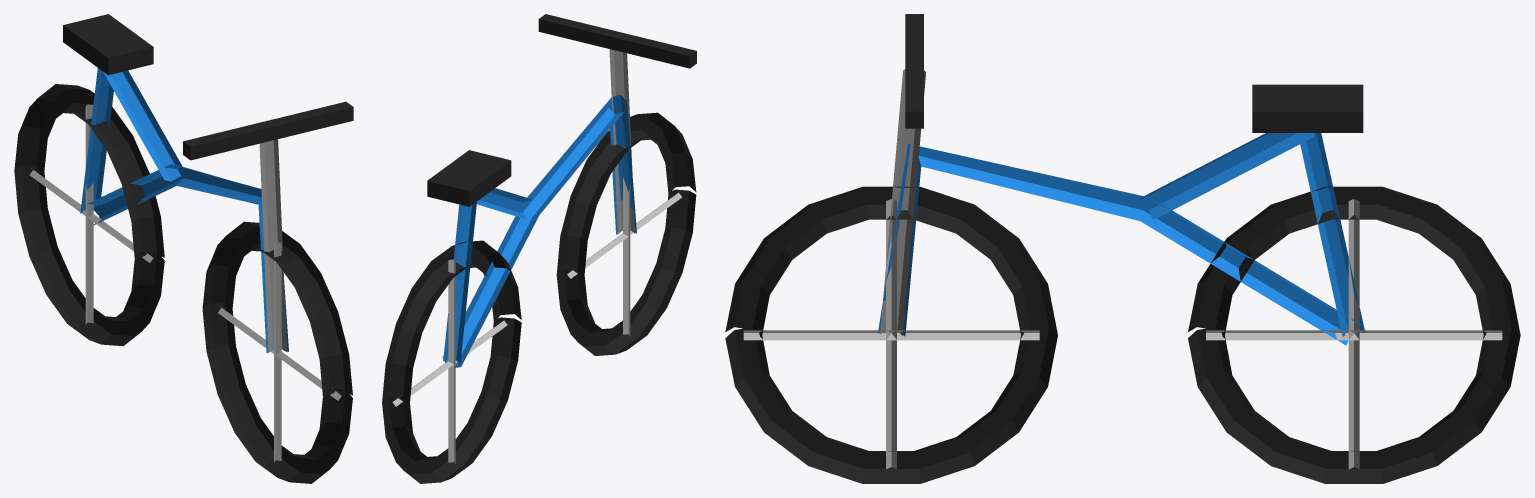
File: cykel.glb
3 renders of one model, left to right at view 1: azimuth 30°, elevation 25°; view 2: azimuth 150°, elevation 25°; view 3: azimuth 270°, elevation 25°, orthographic. The views are drawn at different scales.
Parts seen in each view (by area): view 1: cykel; view 2: cykel; view 3: cykel.
Boxes of the visible parts, left/top/right/bottom form: cykel: left=14, top=14, right=353, bottom=483; cykel: left=382, top=14, right=696, bottom=483; cykel: left=725, top=14, right=1520, bottom=483.
Bounding box in the file's own units: 0.5 × 1 × 1.72.
